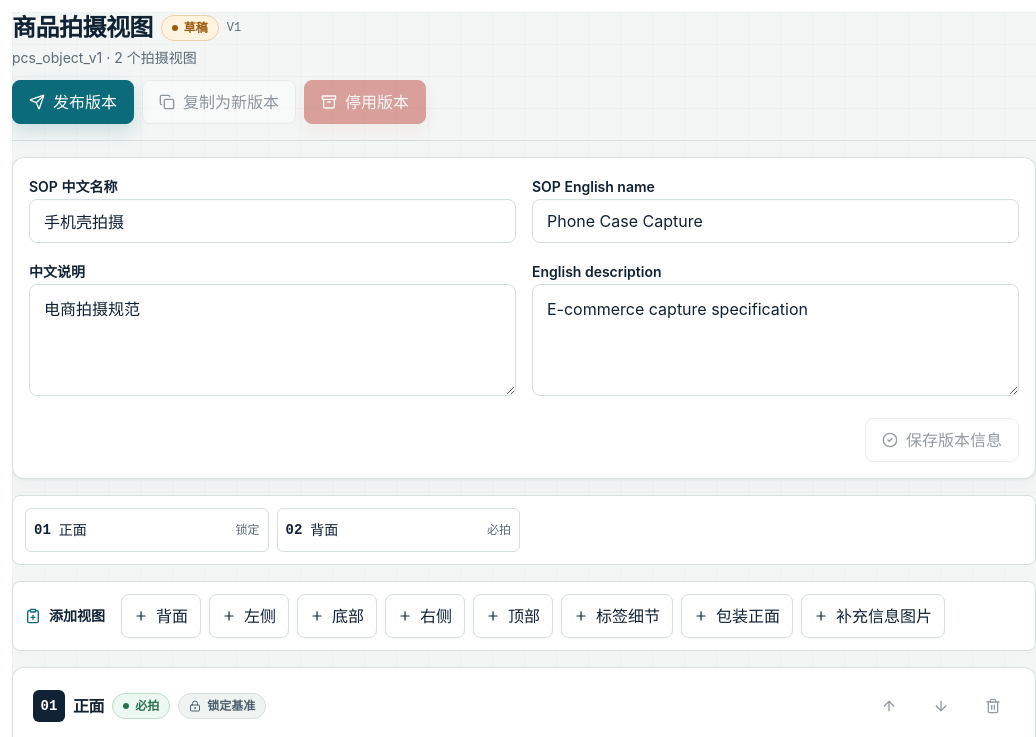
Test: SOPVersionEditor › blocks publication and aggregate mutations while edits are dirty
This screenshot has width=1036, height=737.
Replace the text in the field labelled "SOP 中文名称" with "未保存的新标题": (272, 221) [29,199,516,243]
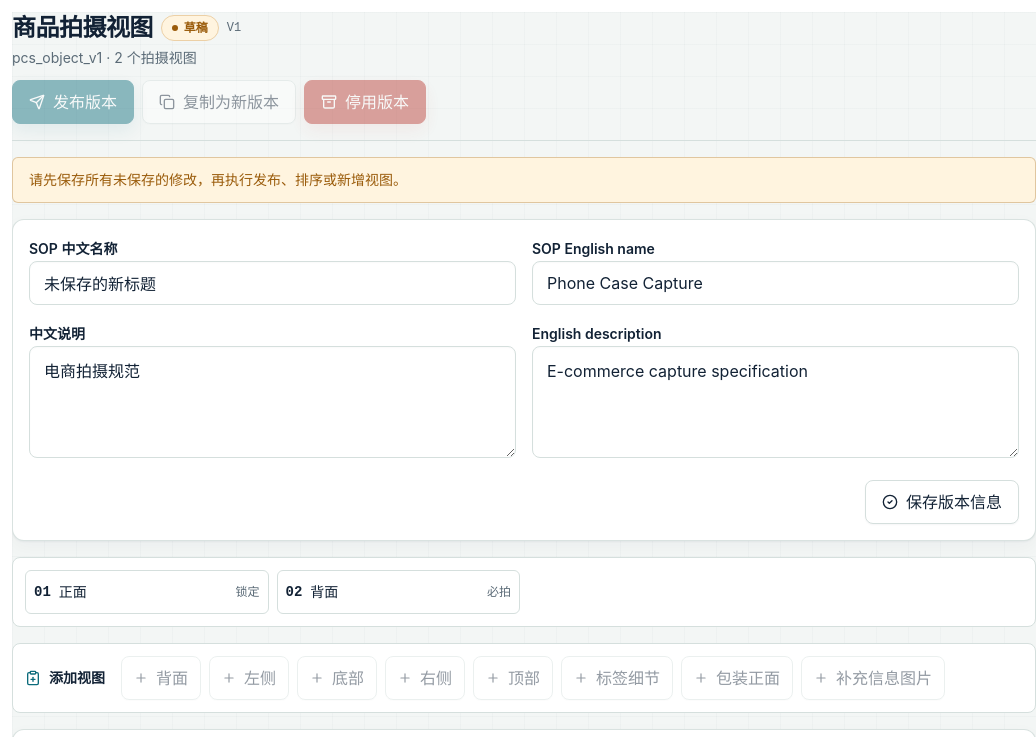
Check: the text "请先保存所有未保存的修改，再执行发布、排序或新增视图。" is shown, box [12,157,1035,203]
Check: the button "发布版本" is disabled, box [12,80,134,124]
Check: the button with aria-label "添加包装正面" is disabled, box [681,656,793,700]
